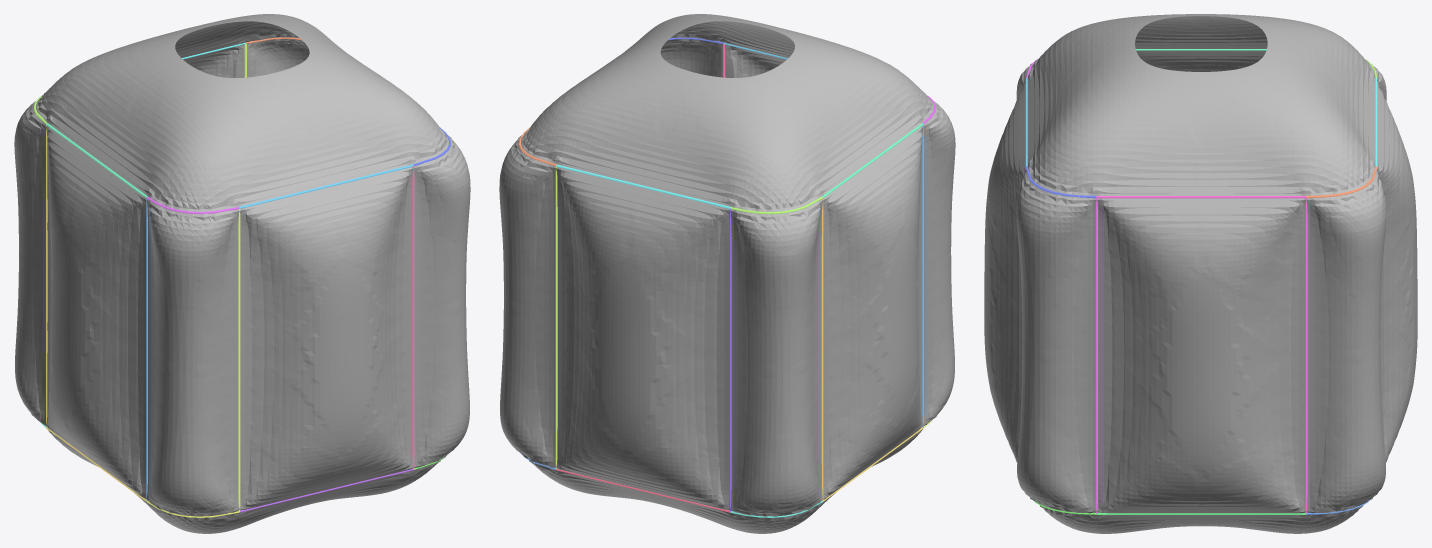
File: onshape_simple_shape.gltf
3 views of the same model, side by side, from view 1: azimuth 30°, elevation 25°; view 2: azimuth 150°, elevation 25°; view 3: azimuth 270°, elevation 25° (orthographic). The views are drawn at different scales.
Bounding box in the file's own units: 0.7134 × 0.803 × 0.7166.
